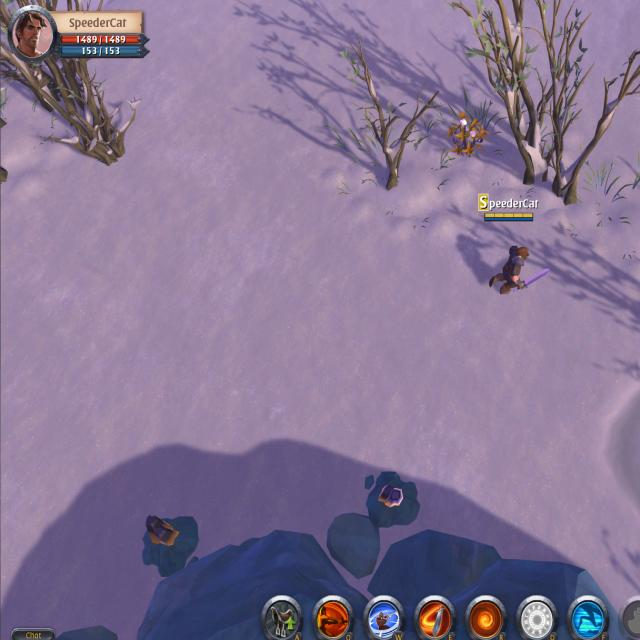copper: (142, 511, 202, 577), (364, 468, 422, 529)
cotton: (444, 112, 488, 160)
